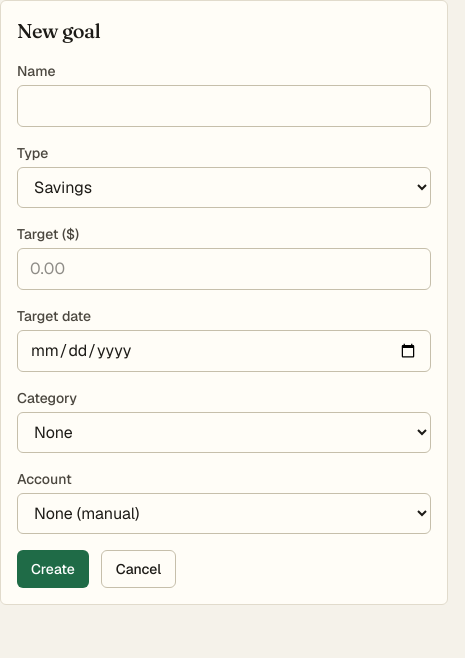
Test: GoalForm › rejects an unparseable target 10.505 with the decimals message
This screenshot has width=465, height=658.
Step 1. Type "Car" into the field labelled "Name" → [224, 106], box [17, 85, 431, 127]
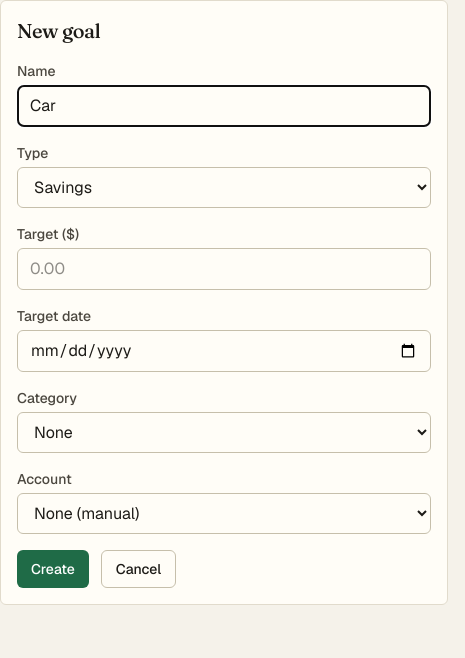
Step 2. Type "10.505" into the field labelled "Target ($)" → [224, 269], box [17, 248, 431, 290]
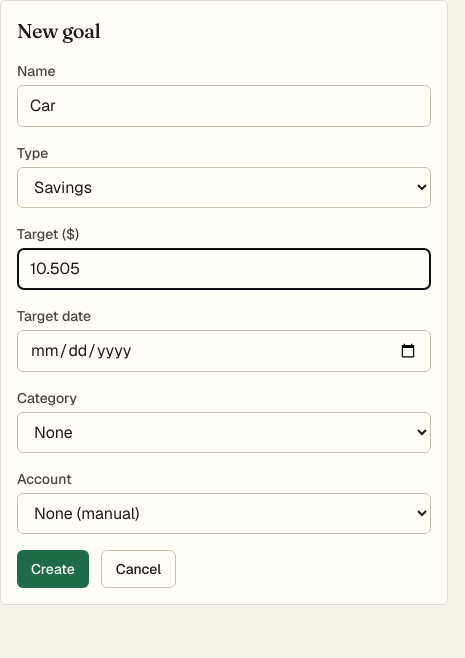
Step 3. Click the button "Create" → [53, 569], box [17, 550, 89, 588]
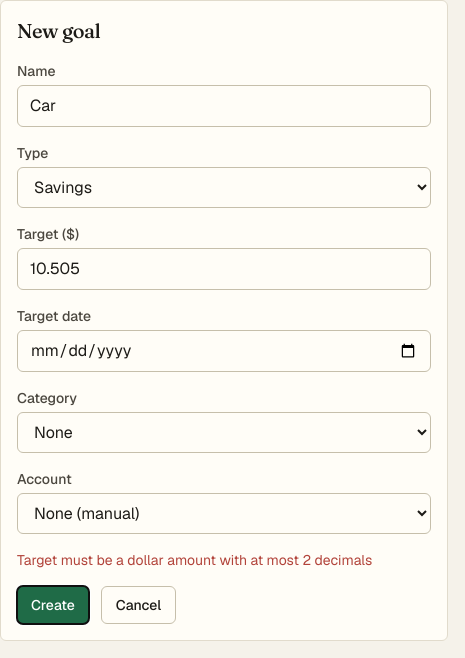
expect the text "Target must be a dollar amount with at most 2 decimals" is shown: met, box [17, 550, 431, 570]
